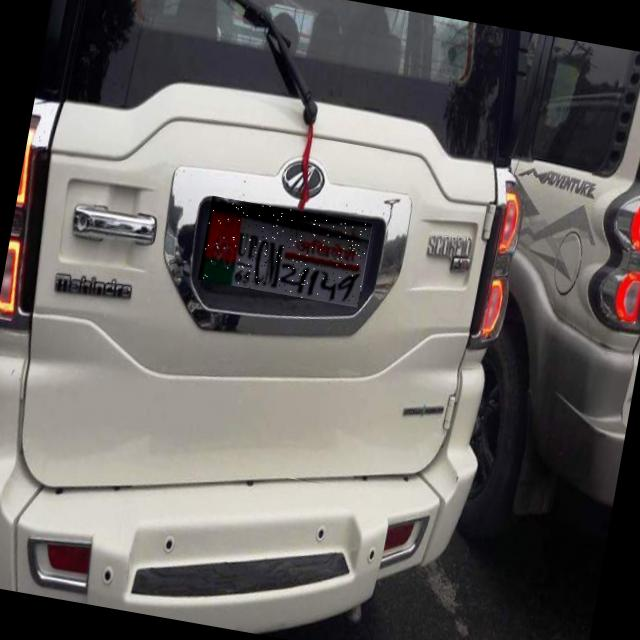Plate: (199, 197, 373, 309)
